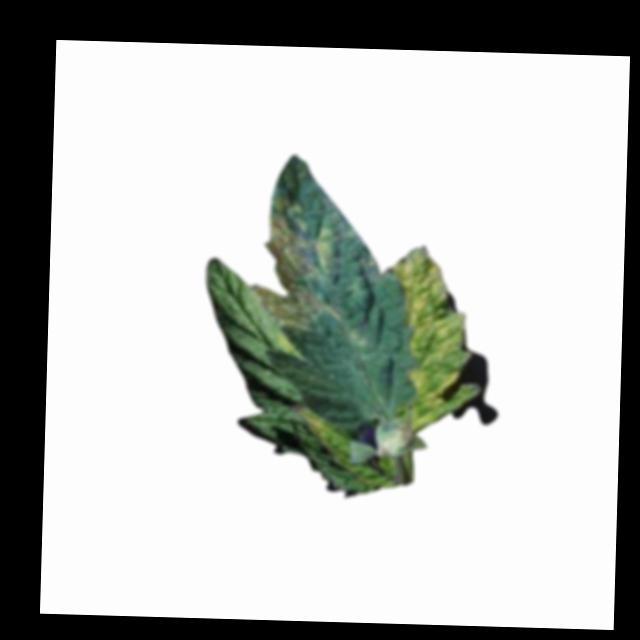Leaf_Mold: (386, 246, 489, 435), (248, 154, 350, 335), (296, 402, 331, 439)
